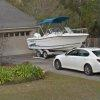Boat: (21, 25, 89, 55)
